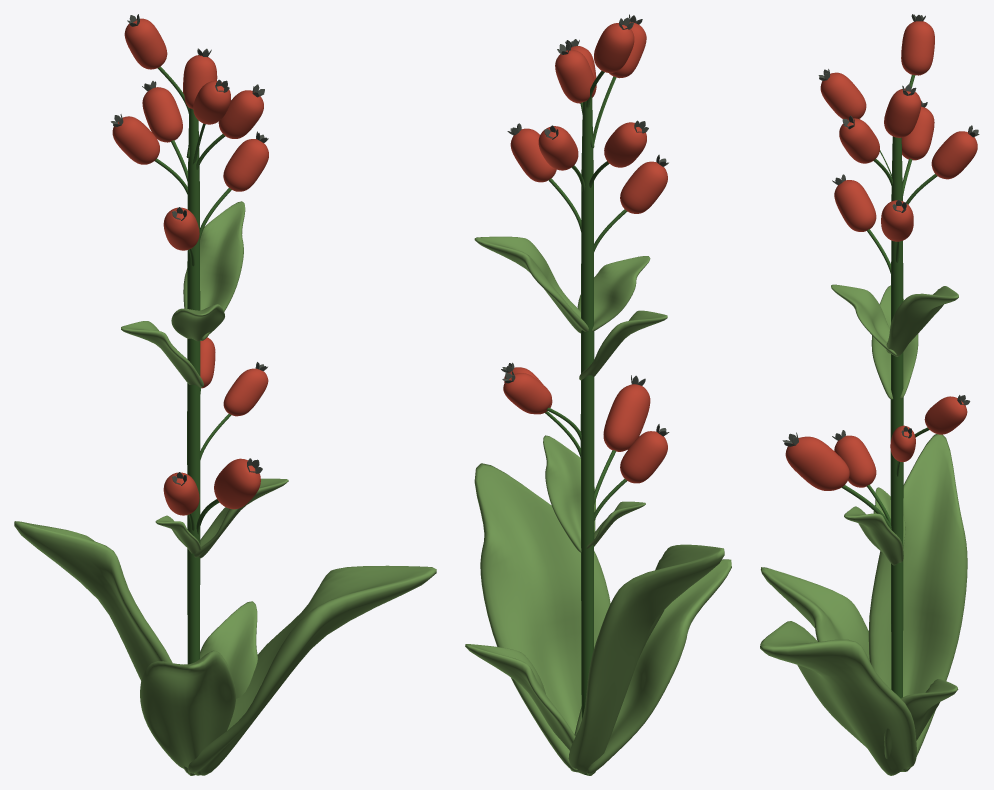
Rendered from flower7.fbx.
3 views of the same model, side by side, from view 1: azimuth 30°, elevation 25°; view 2: azimuth 150°, elevation 25°; view 3: azimuth 270°, elevation 25° (orthographic). The views are drawn at different scales.
Parts seen in each view (by area): view 1: flower15_pPlane36, flower15_group58_group49_pPlane25, pCylinder21; view 2: flower15_pPlane36, flower15_group58_group49_pPlane25, pCylinder21; view 3: flower15_pPlane36, flower15_group58_group49_pPlane25, pCylinder21.
Boxes of the visible parts, x1,y1,x2,y2 form: flower15_pPlane36: (14,521,436,775); flower15_group58_group49_pPlane25: (111,14,288,558); pCylinder21: (187,108,200,664); flower15_pPlane36: (465,463,731,775); flower15_group58_group49_pPlane25: (474,14,669,552); pCylinder21: (580,96,594,775); flower15_pPlane36: (760,434,967,775); flower15_group58_group49_pPlane25: (782,14,979,565); pCylinder21: (890,136,903,698).
Bounding box in the file's own units: 12.76 × 28.13 × 7.61.
